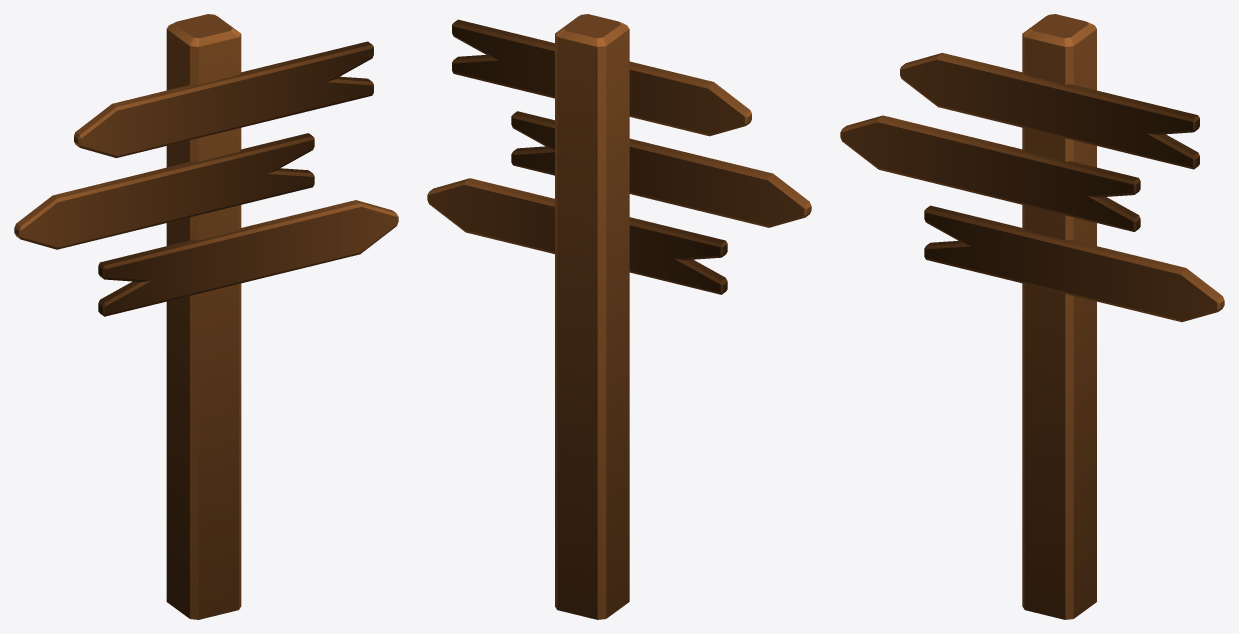
Rendered from Signal-M-2.fbx.
The picture shows the model from 3 angles, left to right: view 1: azimuth 30°, elevation 25°; view 2: azimuth 150°, elevation 25°; view 3: azimuth 330°, elevation 25°; orthographic projection.
Parts seen in each view (by area): view 1: Signal-M-2; view 2: Signal-M-2; view 3: Signal-M-2.
Part boxes in pixels (x1,y1,x2,y2): Signal-M-2: (14,14,398,619); Signal-M-2: (427,14,811,619); Signal-M-2: (840,14,1224,619).
Bounding box in the file's own units: 285 × 415 × 42.87.
